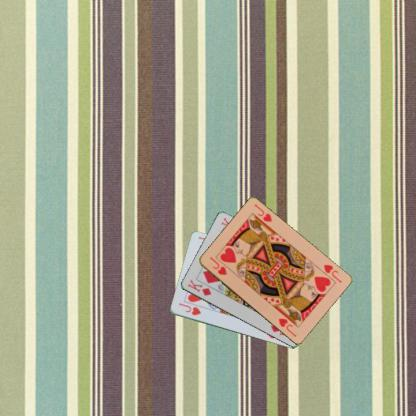Jh: (206, 254, 228, 276), (320, 262, 342, 284), (176, 300, 202, 316)
Kd: (185, 277, 212, 297)
